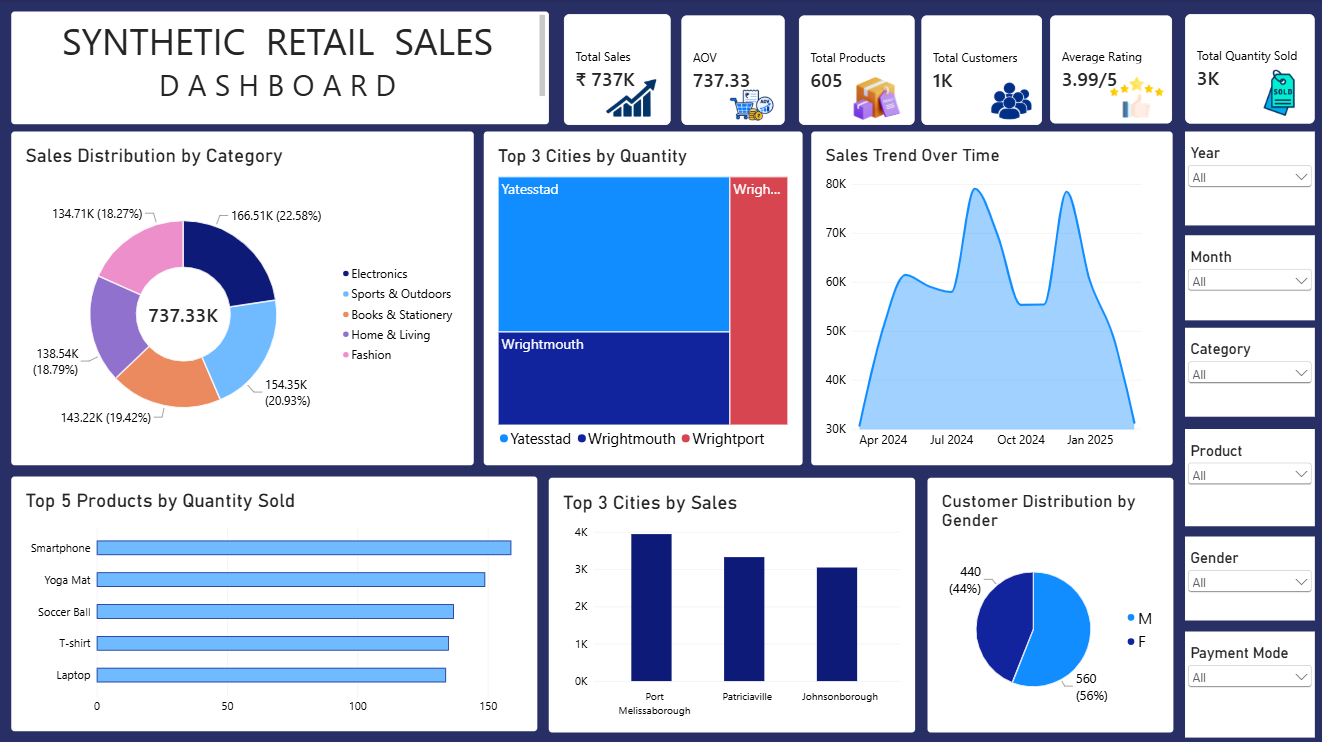

What the dashboard file says about the page in this screenshot:
{"tool":"powerbi","page":{"name":"Page 1","canvas":[1920,1080],"ordinal":0},"visuals":[{"type":"cardVisual","fields":{"Data":["synthetic_online_retail_data.Total Sales"]},"box":[816.2,21.7,155.6,161.1],"z":0},{"type":"cardVisual","fields":{"Data":["synthetic_online_retail_data.Total Quantity Sold"]},"box":[1715.6,21.7,188.2,159.3],"z":1000},{"type":"cardVisual","fields":{"Data":["synthetic_online_retail_data.Total Products"]},"box":[1156.4,23.5,168.3,159.3],"z":2000},{"type":"cardVisual","fields":{"Data":["synthetic_online_retail_data.Total Customers"]},"box":[1333.7,23.5,175.5,159.3],"z":3000},{"type":"cardVisual","fields":{"Data":["synthetic_online_retail_data.Average Rating"]},"box":[1520.1,23.5,177.3,157.4],"z":4000},{"type":"cardVisual","fields":{"Data":["synthetic_online_retail_data.AOV"]},"box":[986.3,23.5,150.2,159.3],"z":5000},{"type":"textbox","box":[16.3,18.1,778.2,162.9],"z":6000},{"type":"slicer","fields":{"Values":["synthetic_online_retail_data.gender"]},"box":[1715.6,778.2,188.2,121.2],"z":7000},{"type":"slicer","fields":{"Values":["synthetic_online_retail_data.payment_method"]},"box":[1715.6,915.7,188.2,153.8],"z":8000},{"type":"slicer","fields":{"Values":["synthetic_online_retail_data.product_name"]},"box":[1715.6,622.5,188.2,141.2],"z":9000},{"type":"slicer","fields":{"Values":["synthetic_online_retail_data.category_name"]},"box":[1715.6,475.9,188.2,128.5],"z":10000},{"type":"slicer","fields":{"Values":["synthetic_online_retail_data.order_date.Variation.Date Hierarchy.Year"]},"box":[1715.6,191.8,188.2,135.7],"z":11000},{"type":"slicer","fields":{"Values":["synthetic_online_retail_data.order_date.Variation.Date Hierarchy.Month"]},"box":[1715.6,342,188.2,123.1],"z":12000},{"type":"barChart","title":"Top 5 Products by Quantity Sold","fields":{"Category":["synthetic_online_retail_data.product_name"],"Y":["Sum(synthetic_online_retail_data.quantity)"]},"box":[16.3,691.3,761.9,369.2],"z":13000},{"type":"columnChart","title":"Top 3 Cities by Sales","fields":{"Category":["synthetic_online_retail_data.city"],"Y":["Sum(synthetic_online_retail_data.sales)"]},"box":[794.4,693.1,530.2,369.2],"z":14000},{"type":"areaChart","title":"Sales Trend Over Time","fields":{"Category":["synthetic_online_retail_data.order_date.Variation.Date Hierarchy.Year","synthetic_online_retail_data.order_date.Variation.Date Hierarchy.Month"],"Y":["Sum(synthetic_online_retail_data.sales)"]},"box":[1174.5,191.8,523,483.2],"z":15000},{"type":"pieChart","title":"Customer Distribution by Gender","fields":{"Category":["synthetic_online_retail_data.gender"],"Y":["CountNonNull(synthetic_online_retail_data.customer_id)"]},"box":[1341,691.3,356.1,368.4],"z":16000},{"type":"donutChart","title":"Sales Distribution by Category","fields":{"Category":["synthetic_online_retail_data.category_name"],"Y":["Sum(synthetic_online_retail_data.sales)"]},"box":[16.3,191.8,669.6,483.2],"z":17000},{"type":"treemap","title":"Top 3 Cities by Quantity","fields":{"Group":["synthetic_online_retail_data.city"],"Values":["Sum(synthetic_online_retail_data.quantity)"]},"box":[700.3,191.8,461.5,483.2],"z":18000},{"type":"image","box":[1420.6,103.2,83.2,88.7],"z":19000},{"type":"image","box":[1223.3,103.2,92.3,79.6],"z":20000},{"type":"image","box":[868.6,97.7,90.5,92.3],"z":21000},{"type":"image","box":[1800.6,101.3,103.2,68.8],"z":22000},{"type":"image","box":[1031.5,126.7,114,54.3],"z":23000},{"type":"image","box":[1607,94.1,77.8,95.9],"z":24000}]}

Visuals, with their boxes in screenshot pixels (x1, y1, x2, y2), scaled from the page's 1920x1080 canvas onto the 1322x742 screenshot:
cardVisual - synthetic_online_retail_data.Total Sales: [left=562, top=15, right=669, bottom=126]
cardVisual - synthetic_online_retail_data.Total Quantity Sold: [left=1181, top=15, right=1311, bottom=124]
cardVisual - synthetic_online_retail_data.Total Products: [left=796, top=16, right=912, bottom=126]
cardVisual - synthetic_online_retail_data.Total Customers: [left=918, top=16, right=1039, bottom=126]
cardVisual - synthetic_online_retail_data.Average Rating: [left=1047, top=16, right=1169, bottom=124]
cardVisual - synthetic_online_retail_data.AOV: [left=679, top=16, right=783, bottom=126]
textbox: [left=11, top=12, right=547, bottom=124]
slicer - synthetic_online_retail_data.gender: [left=1181, top=535, right=1311, bottom=618]
slicer - synthetic_online_retail_data.payment_method: [left=1181, top=629, right=1311, bottom=735]
slicer - synthetic_online_retail_data.product_name: [left=1181, top=428, right=1311, bottom=525]
slicer - synthetic_online_retail_data.category_name: [left=1181, top=327, right=1311, bottom=415]
slicer - synthetic_online_retail_data.order_date.Variation.Date Hierarchy.Year: [left=1181, top=132, right=1311, bottom=225]
slicer - synthetic_online_retail_data.order_date.Variation.Date Hierarchy.Month: [left=1181, top=235, right=1311, bottom=320]
"Top 5 Products by Quantity Sold" barChart: [left=11, top=475, right=536, bottom=729]
"Top 3 Cities by Sales" columnChart: [left=547, top=476, right=912, bottom=730]
"Sales Trend Over Time" areaChart: [left=809, top=132, right=1169, bottom=464]
"Customer Distribution by Gender" pieChart: [left=923, top=475, right=1169, bottom=728]
"Sales Distribution by Category" donutChart: [left=11, top=132, right=472, bottom=464]
"Top 3 Cities by Quantity" treemap: [left=482, top=132, right=800, bottom=464]
image: [left=978, top=71, right=1035, bottom=132]
image: [left=842, top=71, right=906, bottom=126]
image: [left=598, top=67, right=660, bottom=131]
image: [left=1240, top=70, right=1311, bottom=117]
image: [left=710, top=87, right=789, bottom=124]
image: [left=1106, top=65, right=1160, bottom=131]
